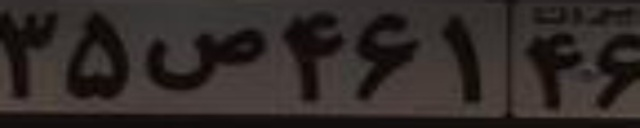1: (440, 12, 483, 103)
3: (1, 7, 59, 100)
4: (287, 10, 346, 102), (528, 33, 583, 108)
5: (63, 10, 134, 101)
6: (355, 12, 420, 102), (592, 33, 637, 109)
saat: (143, 26, 269, 90)
